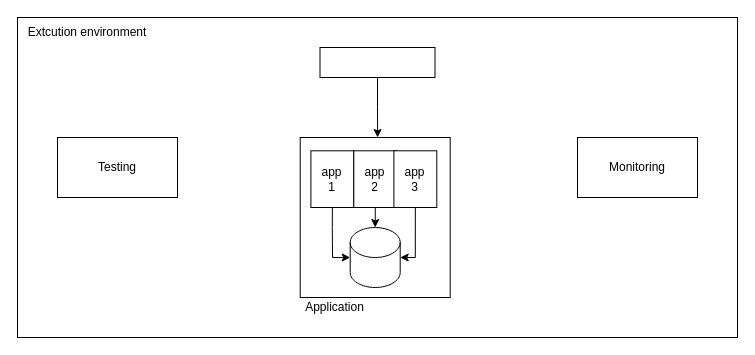
Some shapes in this 755 by 355 pixel diagram are drawn without their labels. Here are the shapes that lost their labels. From the top down, the box of each, then its label:
(319, 46, 435, 78): Load Balancer
(349, 226, 400, 288): DB
